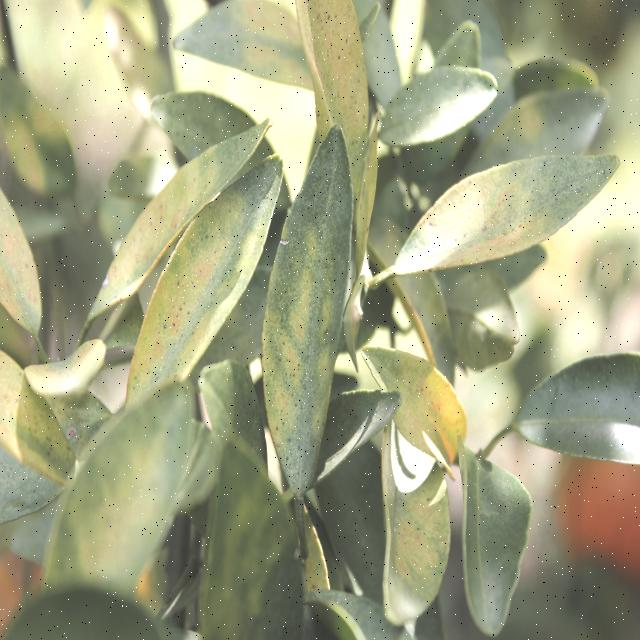blackspot: (132, 189, 266, 394), (414, 148, 616, 283), (267, 212, 348, 484), (300, 0, 375, 176)
